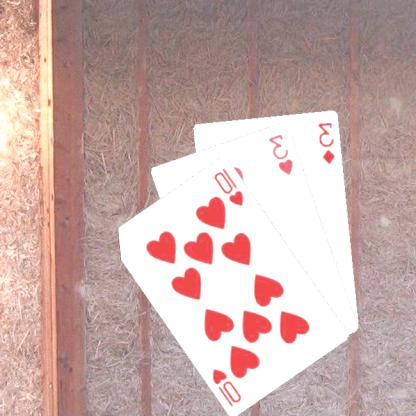10H: (211, 364, 245, 408), (213, 165, 247, 208)
3D: (316, 119, 338, 166)
3H: (267, 131, 297, 176)
